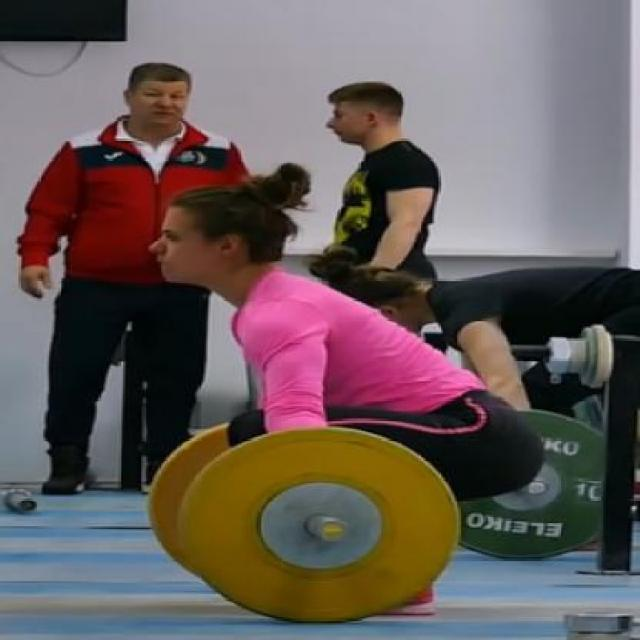Barbell: (312, 513, 350, 549)
